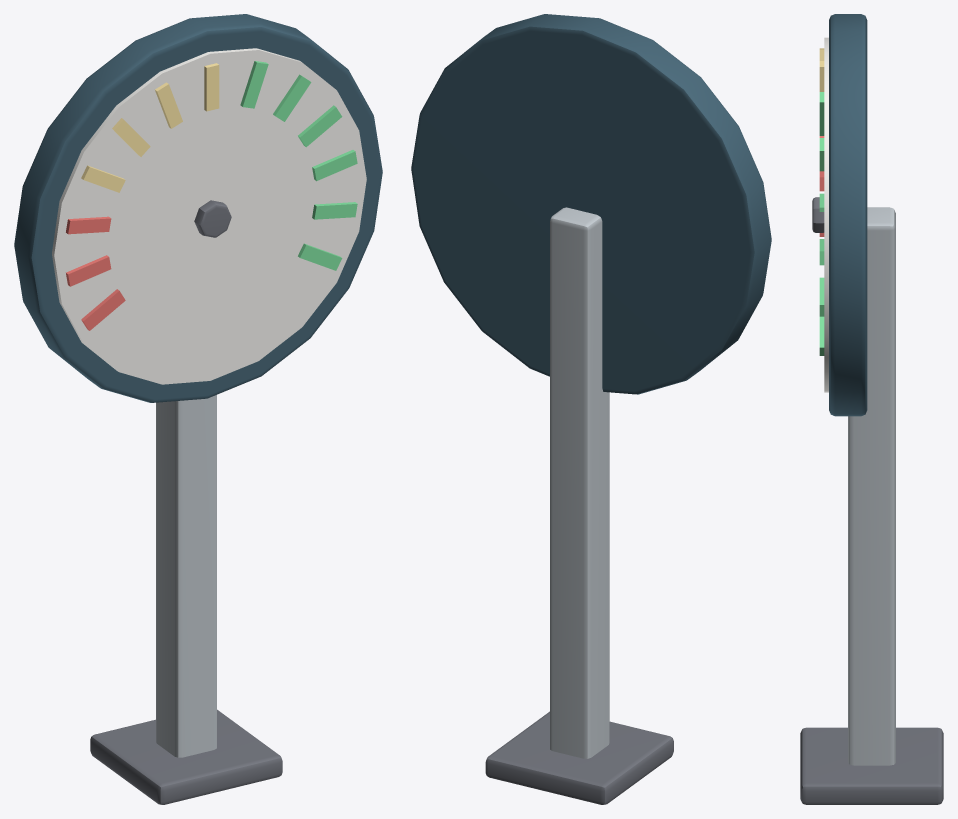
File: PressureDial.fbx
The picture shows the model from 3 angles, left to right: view 1: azimuth 30°, elevation 25°; view 2: azimuth 150°, elevation 25°; view 3: azimuth 270°, elevation 25°; orthographic projection. The views are drawn at different scales.
Visible parts, largest first — view 1: PressureDial; view 2: PressureDial; view 3: PressureDial.
Boxes of the visible parts, left/top/right/bottom form: PressureDial: left=14, top=14, right=382, bottom=804; PressureDial: left=411, top=14, right=771, bottom=804; PressureDial: left=800, top=14, right=943, bottom=804.
Size of the model in its own units: 1.7 by 3.45 by 0.6.
